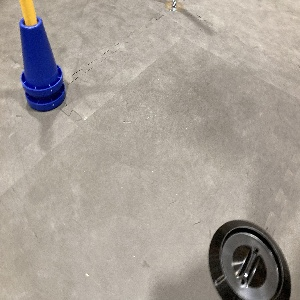Blue_2: (16, 15, 67, 109)
